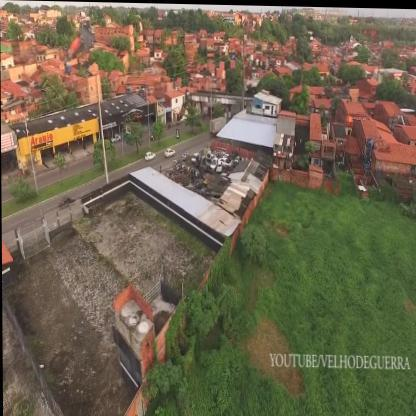lixo: (203, 147, 236, 176), (174, 159, 204, 187)
